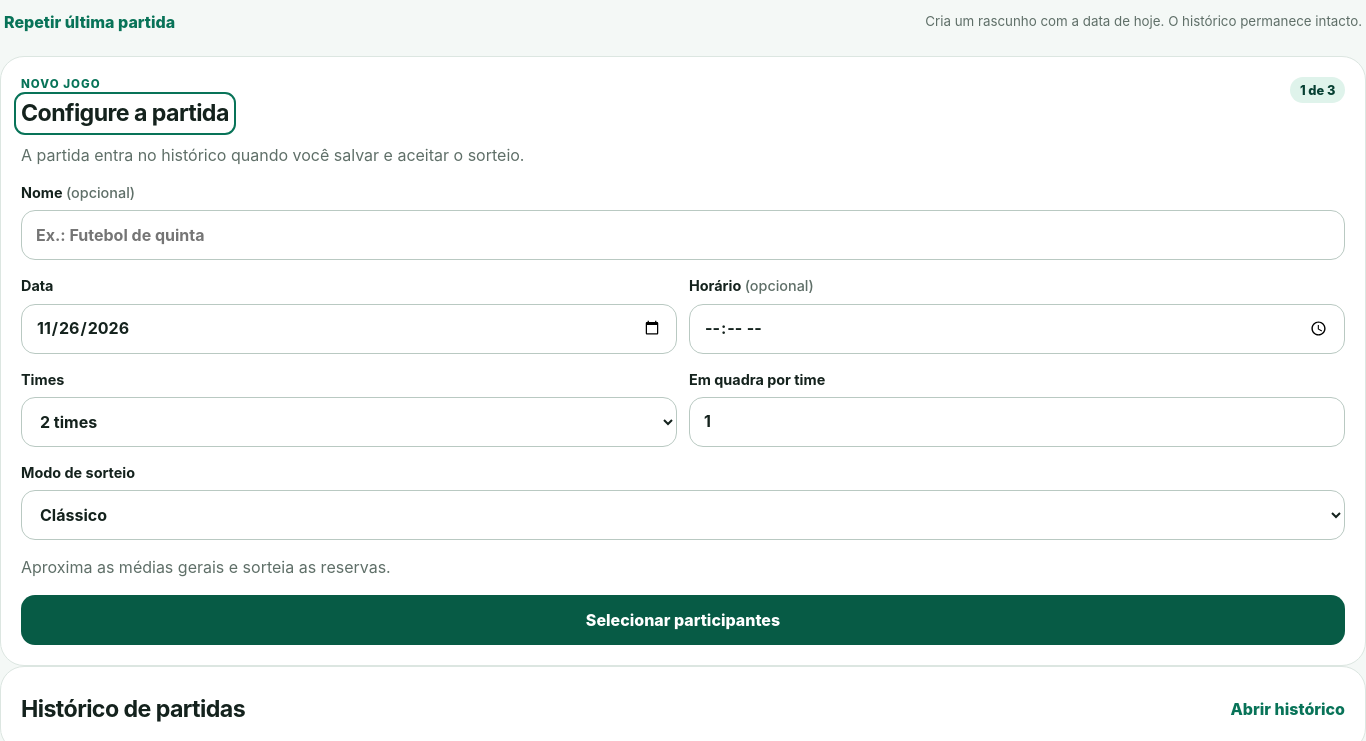
Scenario: histórico e detalhe da Fase 7 › mantém rascunho se repetição falha ou se o usuário cancela a substituição
Click the field labelled "Nome (opcional)": (683, 235) x1=21 y1=210 x2=1345 y2=260
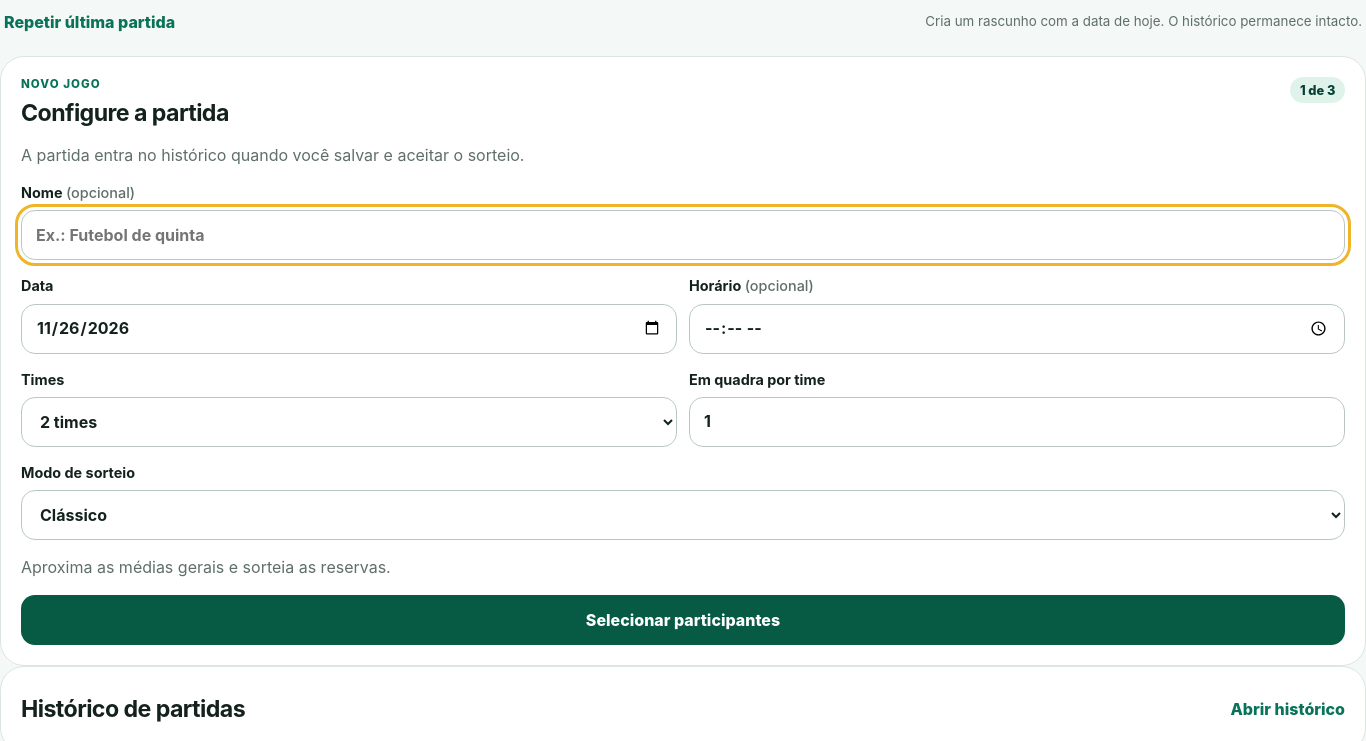
Type keys "Continuar aqui"
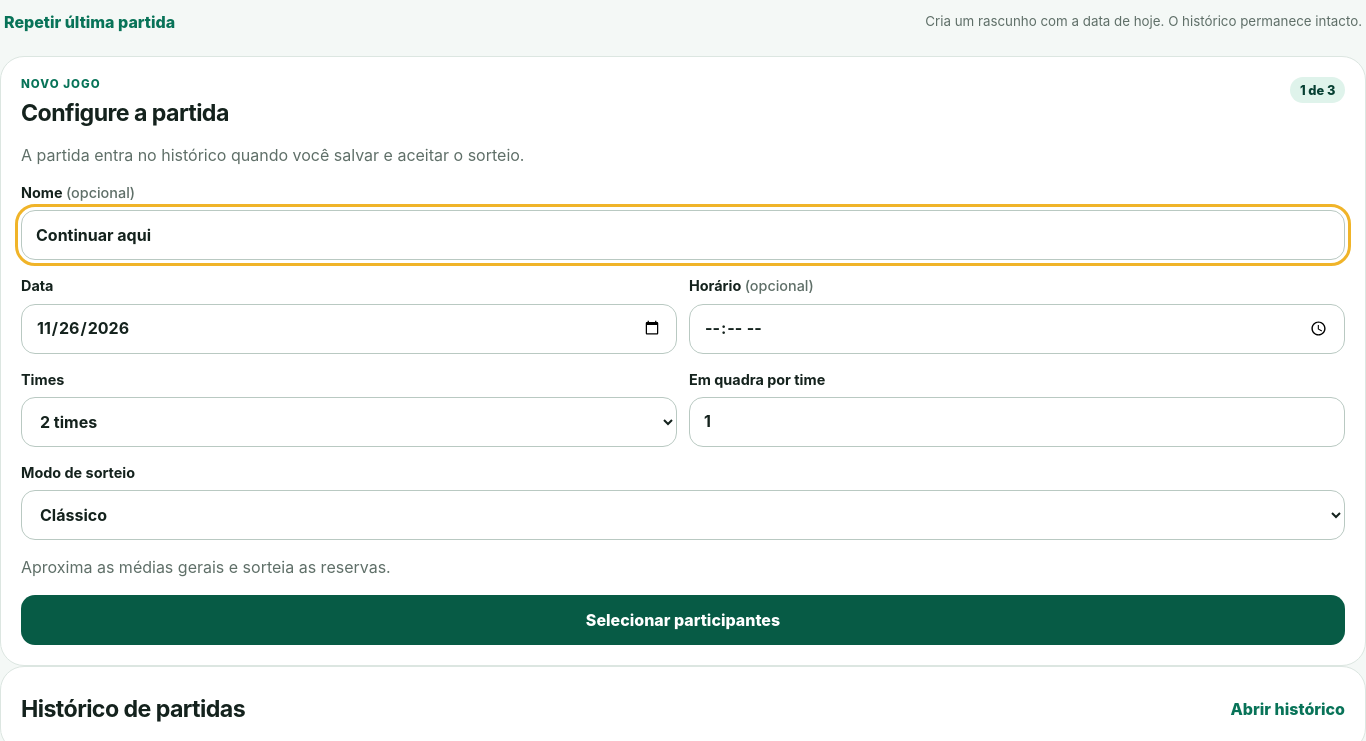
Click the button "Repetir última partida": (90, 22) x1=4 y1=0 x2=175 y2=44
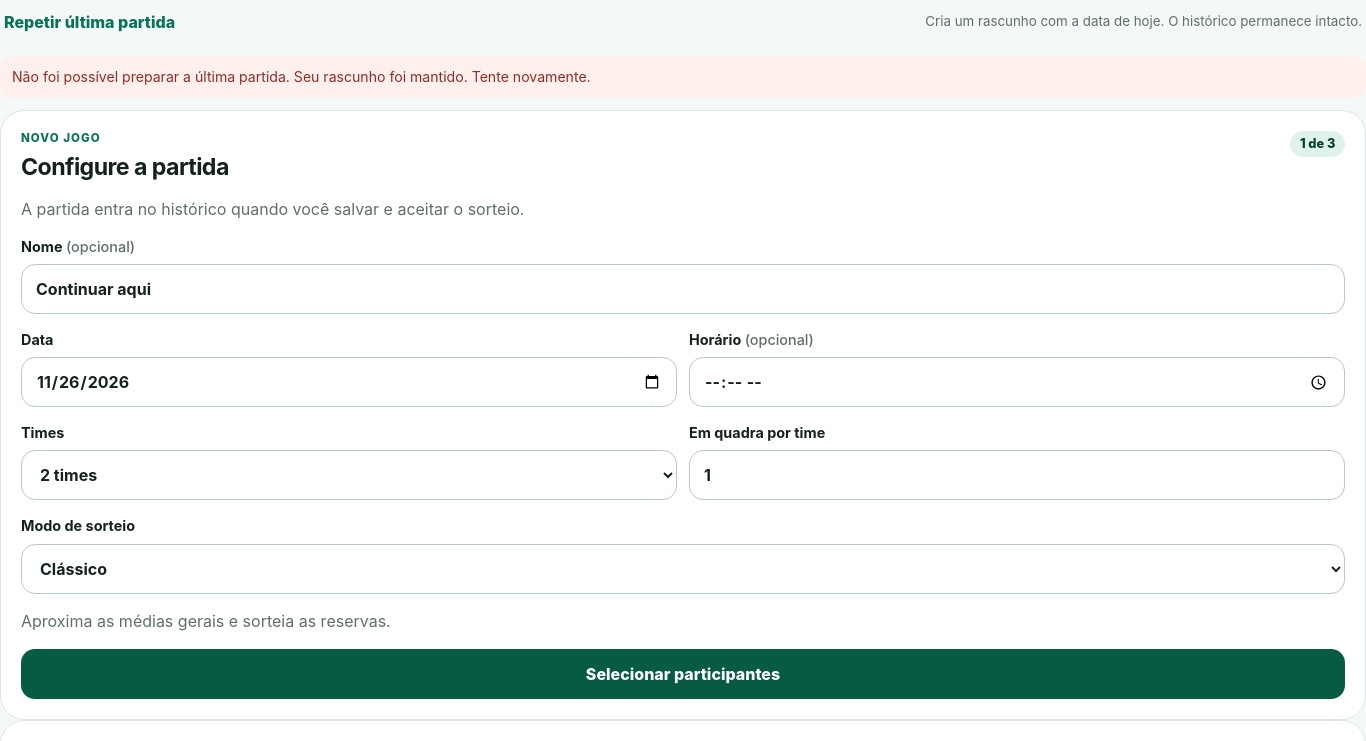
Now the field labelled "Nome (opcional)" holds "Continuar aqui", box x1=21 y1=264 x2=1345 y2=314
Now the message shows "Seu rascunho foi mantido", box x1=12 y1=68 x2=591 y2=85
Click the button "Repetir última partida": (90, 22) x1=4 y1=0 x2=175 y2=44
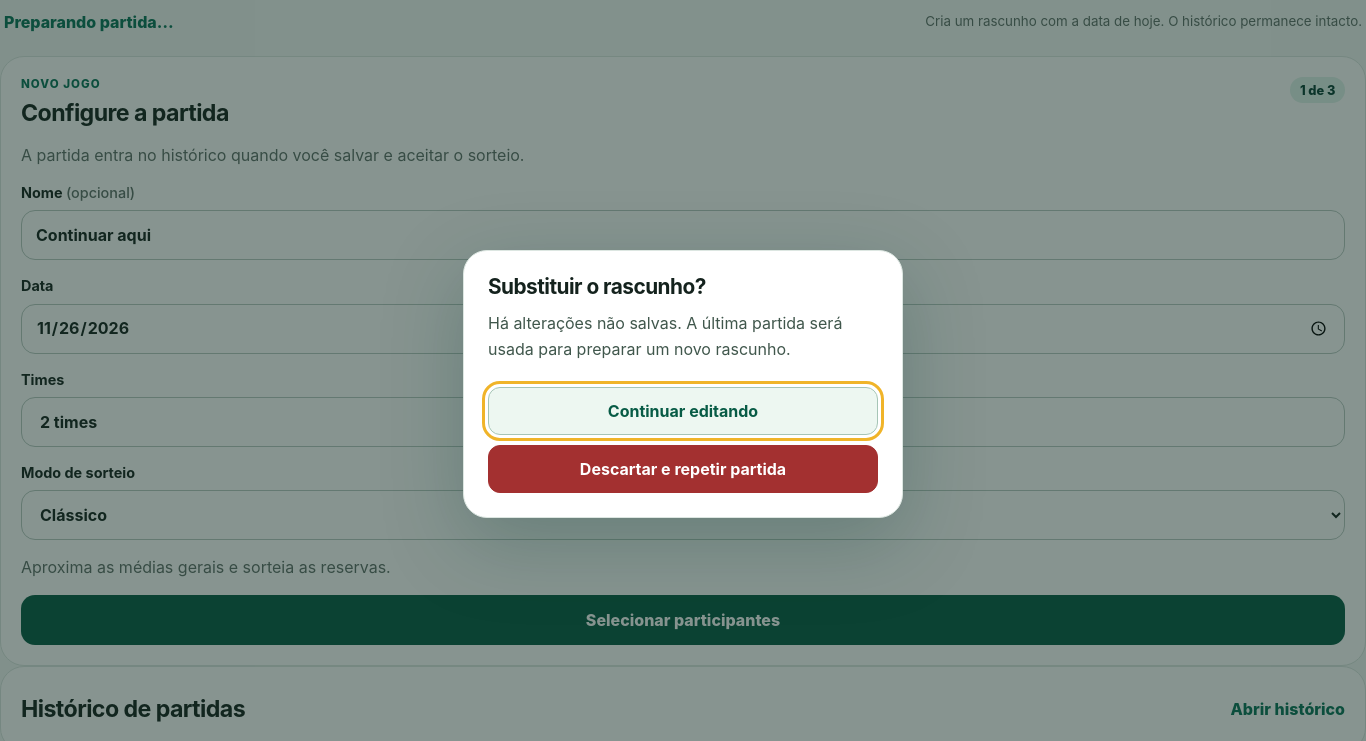
Click the button "Continuar editando": (683, 410) x1=488 y1=386 x2=878 y2=434
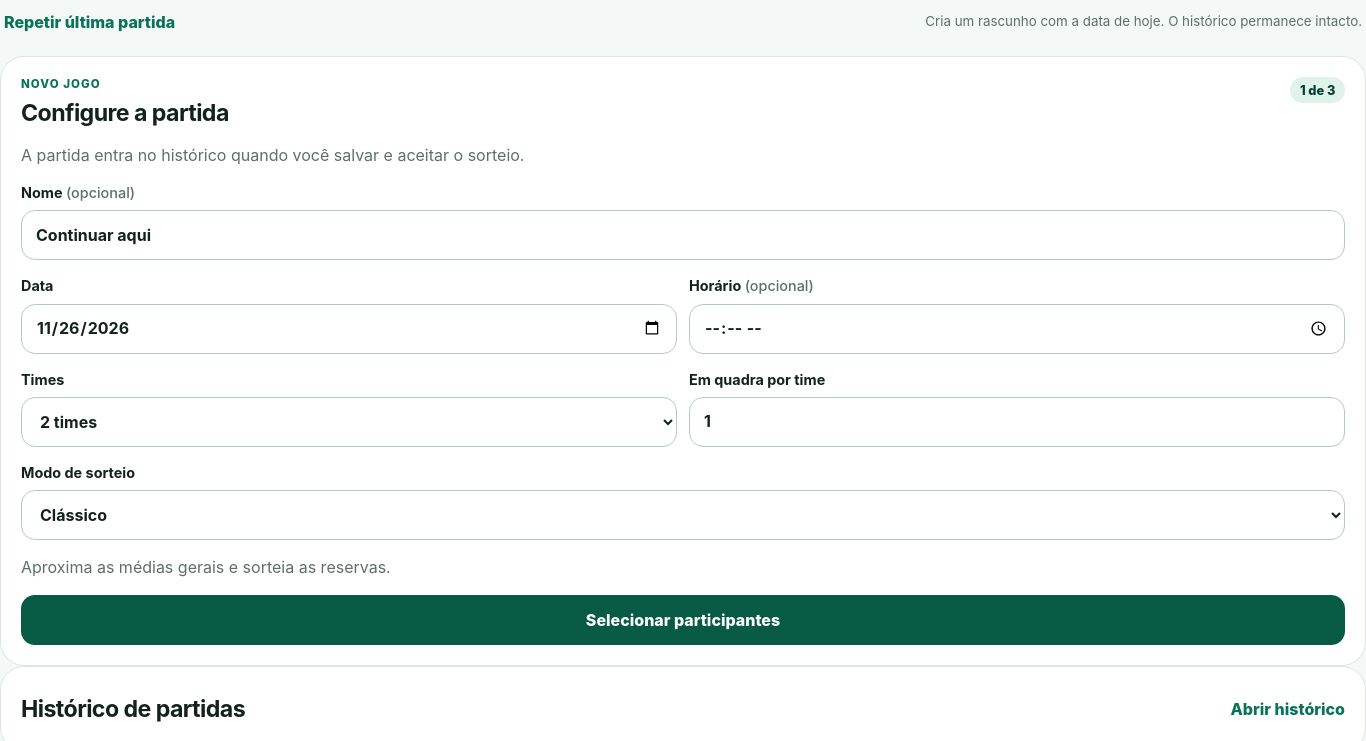
Now the field labelled "Nome (opcional)" holds "Continuar aqui", box x1=21 y1=210 x2=1345 y2=260
Now the button "Repetir última partida" is shown, box x1=4 y1=0 x2=175 y2=44
